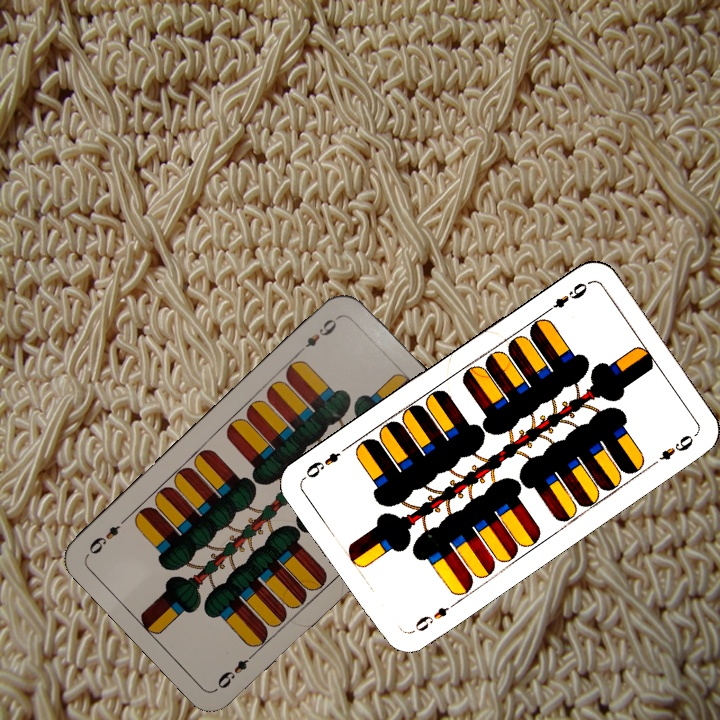E9: (294, 312, 342, 356), (213, 647, 259, 692), (540, 278, 592, 317), (408, 597, 460, 636)
